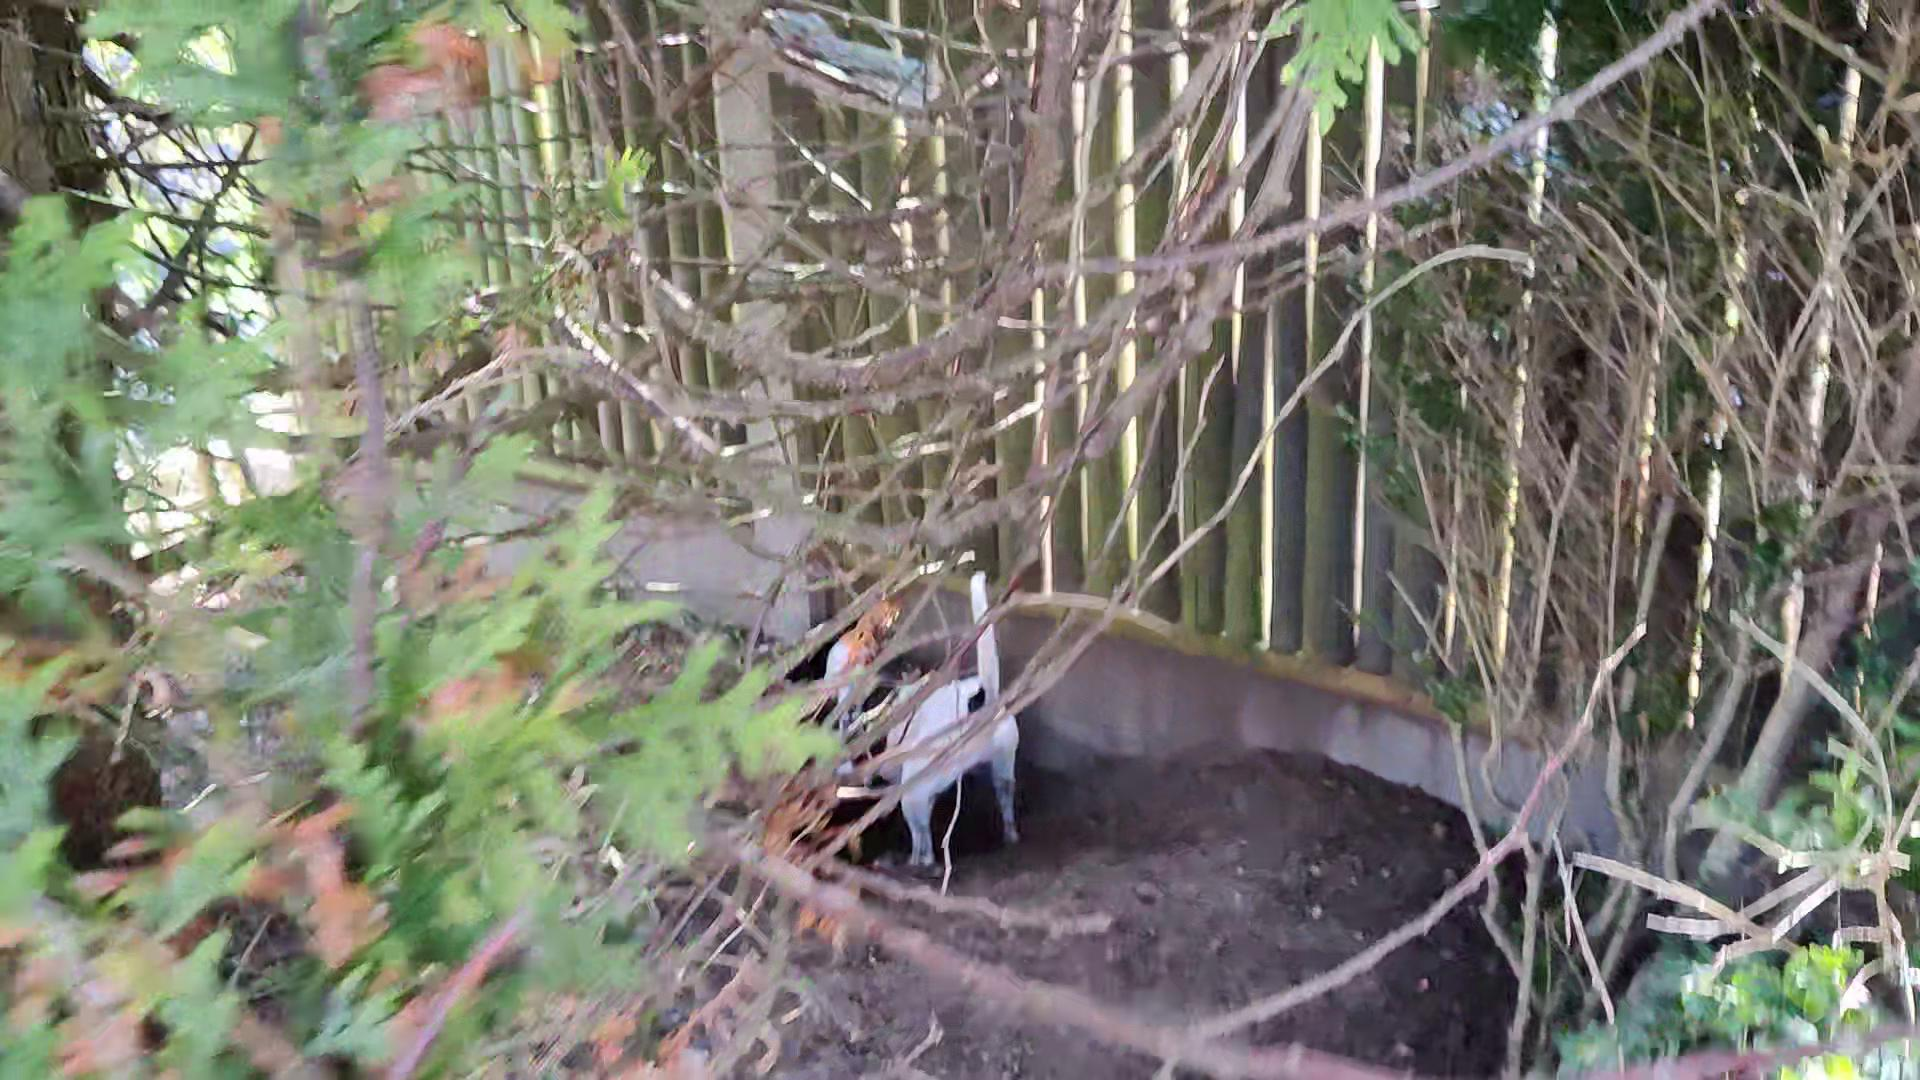Dog: (782, 556, 1029, 874)
